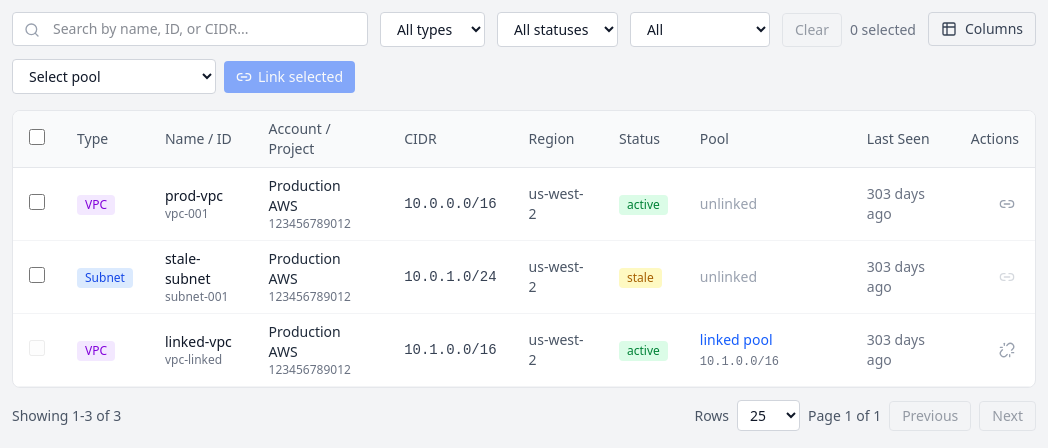
Scenario: ResourcesTab › shows account context and toggles configurable columns
Expected: the text "Production AWS" next to "prod-vpc" is shown, [268,176,341,215]
Expected: the text "123456789012" below "prod-vpc" is shown, [268,215,351,232]
Click the button "Columns" at (982,29), box [928,12,1036,46]
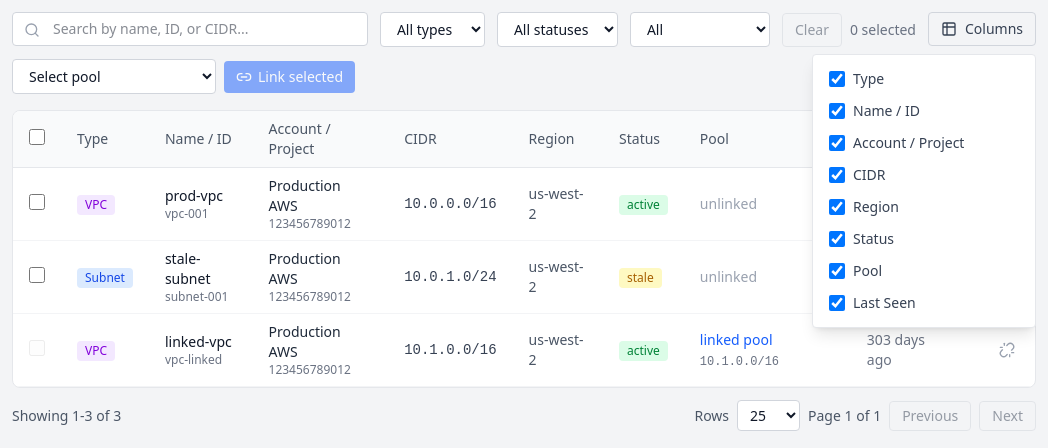
Click the checkbox labelled "Account / Project" at (837,143), box [829,135,845,151]
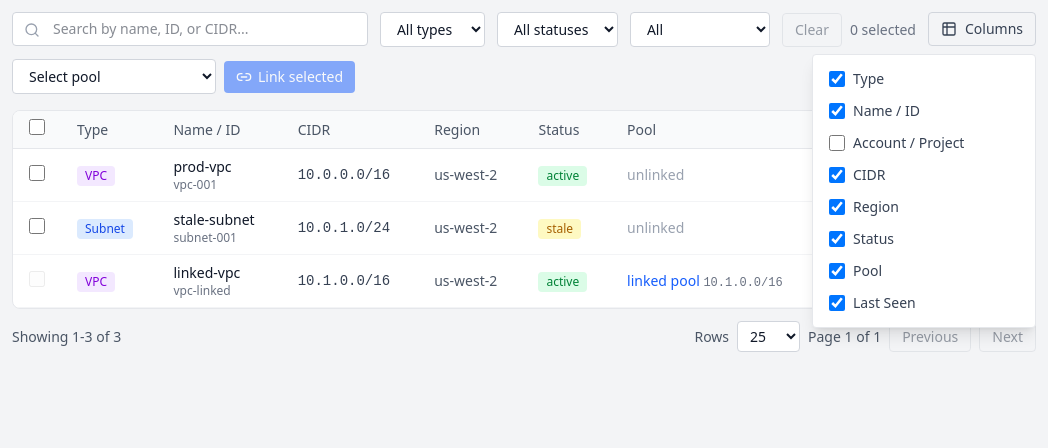
Click the checkbox labelled "Account / Project" at (837,143), box [829,135,845,151]
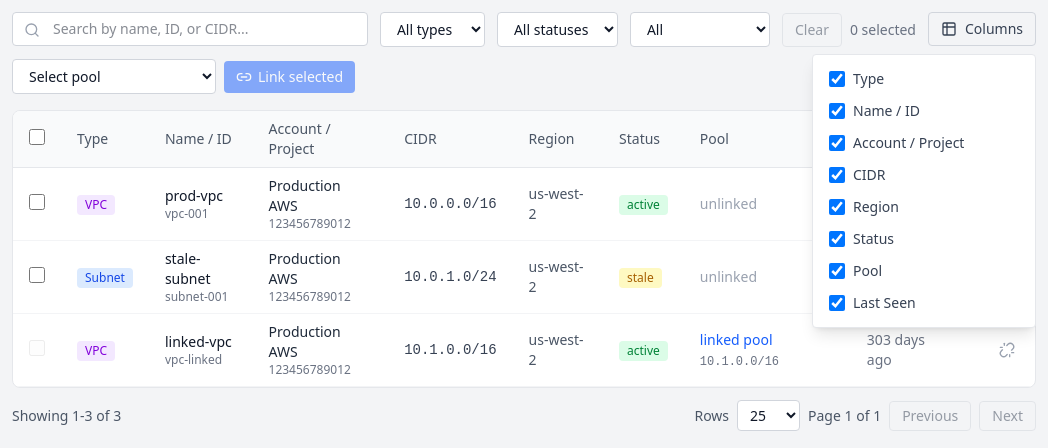
Now the column heading "Account / Project" is shown, box [252,111,388,168]
